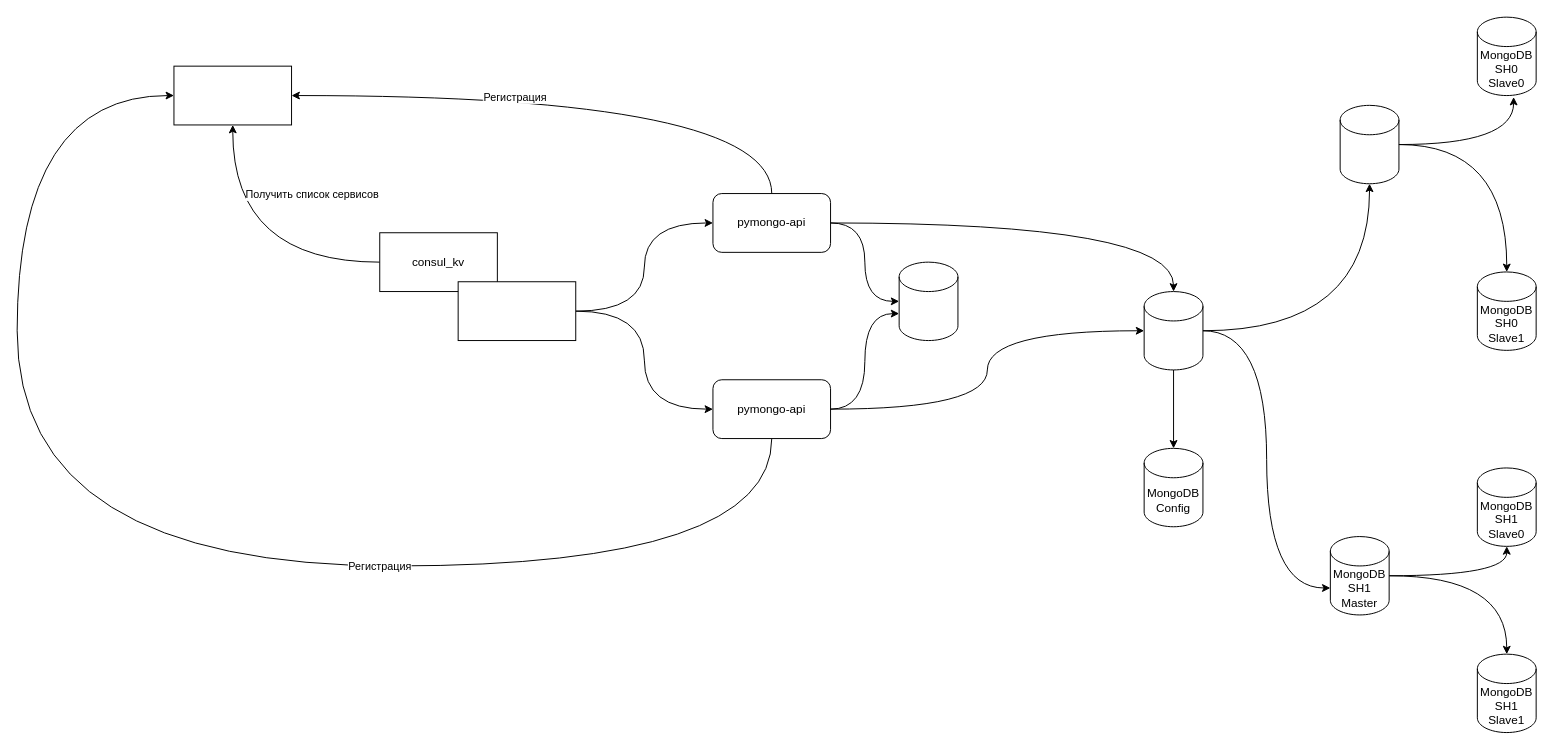
Some shapes in this 1553 by 750 pixel diagram are drawn without their labels. Each missing label, with the centre of its shape:
API Gateway: point (516, 311)
Consul: point (232, 95)
MongoDB Router: point (1173, 330)
MongoDB SH0 Master: point (1369, 144)
Redis Cluster: point (928, 301)
